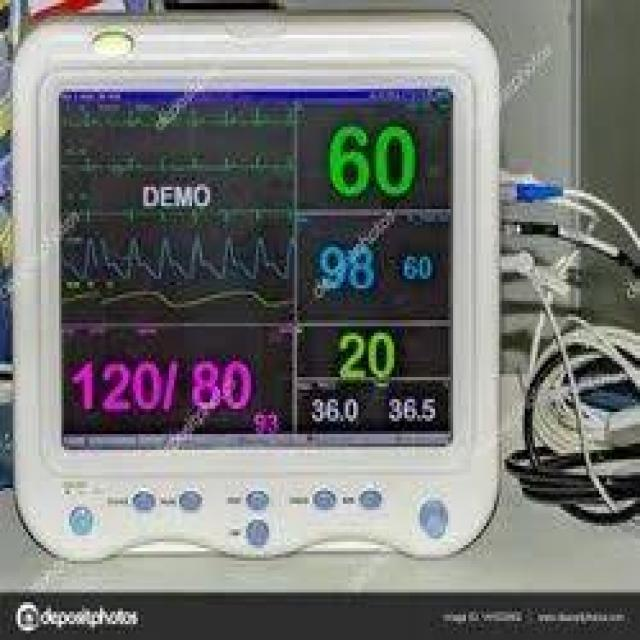cardiac_monitor: (36, 34, 485, 542)
